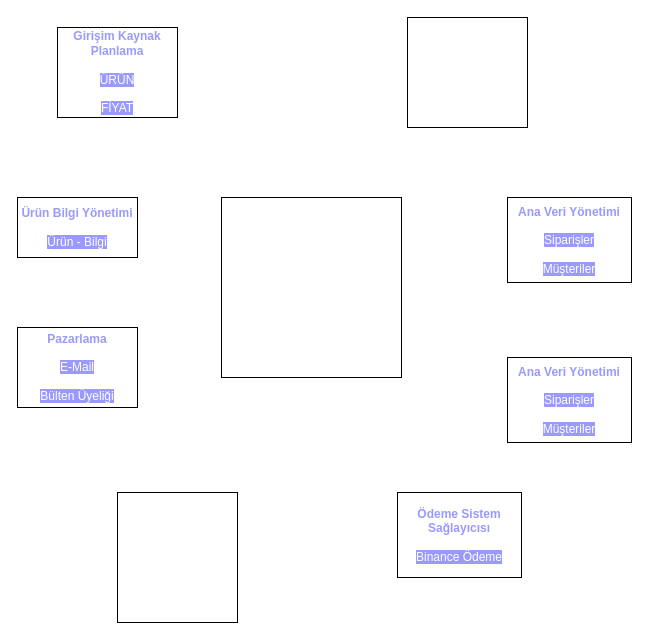
The diagram is 649 pixels wide and 640 high, and some of its shapes have lost their labels. Here are the shapes that lost their labels. From the top down, the centre of each, then its label:
point 467,72: Depo Yönetim Sistemi Envanter Sipariş/Gönderi Durumu
point 311,287: SFCC B2C Bağlılık Verisi Promosyonlar Sosyal hesap girişi İçerik Mağazalar
point 177,557: CRM & POS Bütüncül Kanal Bağlılık Motoru İade Müşteri Hizmetleri
